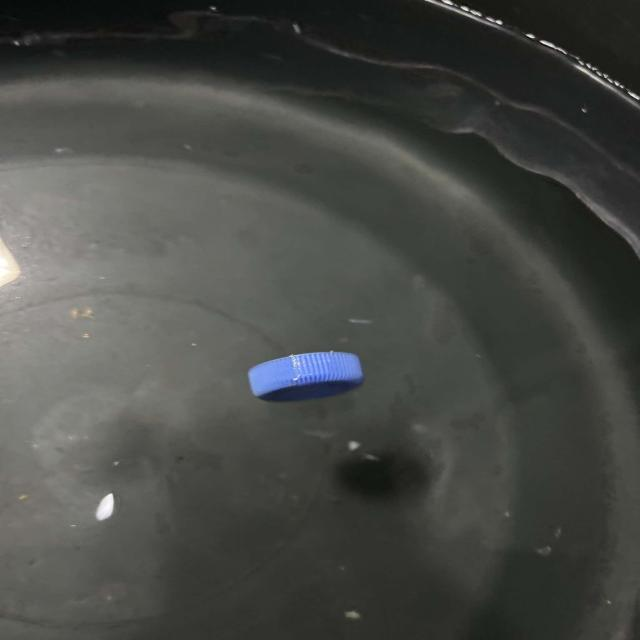Bottle Lid: (248, 352, 364, 402)
